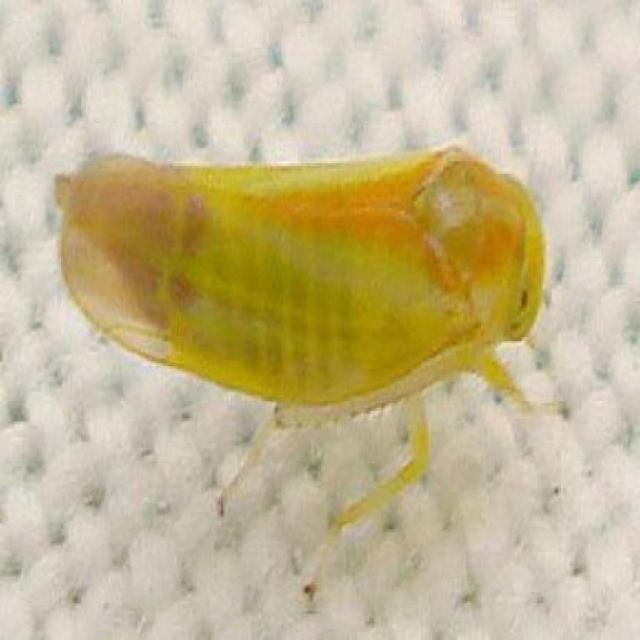green-leafhopper: (57, 125, 546, 422)
